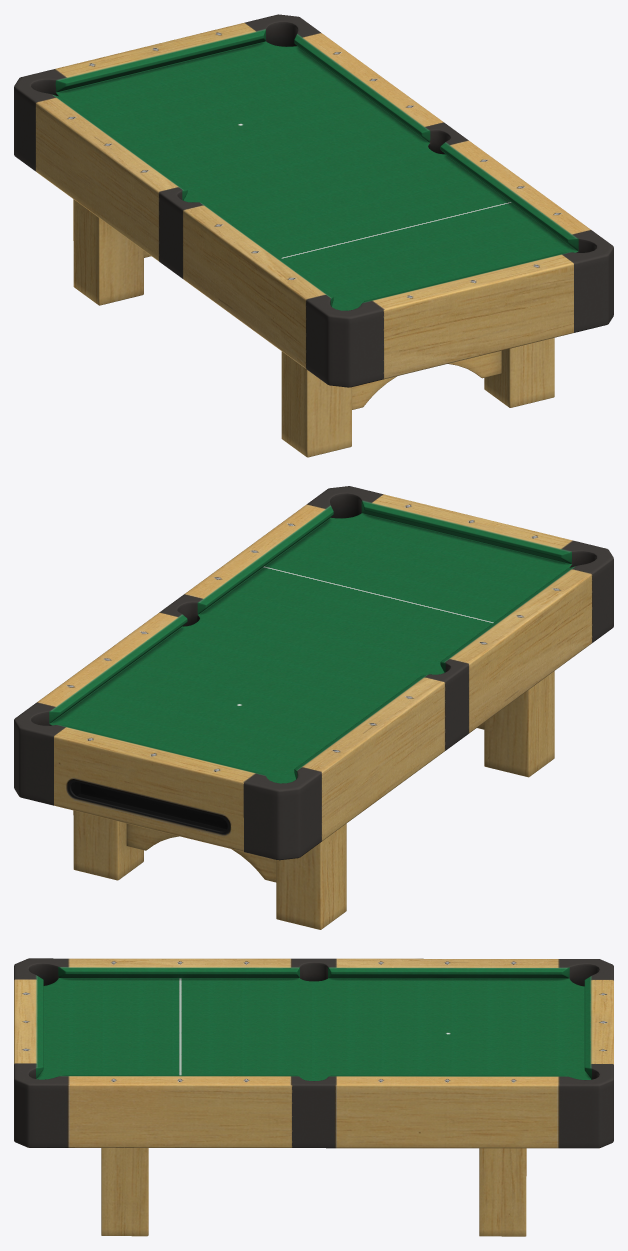
File: pooltable.obj
The picture shows the model from 3 angles, top to bottom: view 1: azimuth 30°, elevation 25°; view 2: azimuth 150°, elevation 25°; view 3: azimuth 270°, elevation 25°; orthographic projection. The views are drawn at different scales.
Parts seen in each view (by area): view 1: 10523_Pool_Table_v1_L3; view 2: 10523_Pool_Table_v1_L3; view 3: 10523_Pool_Table_v1_L3.
Boxes of the visible parts, x1,y1,x2,y2 form: 10523_Pool_Table_v1_L3: (14,14,613,457); 10523_Pool_Table_v1_L3: (14,486,613,929); 10523_Pool_Table_v1_L3: (14,958,613,1236).
Size of the model in its own units: 127 by 76.41 by 254.
